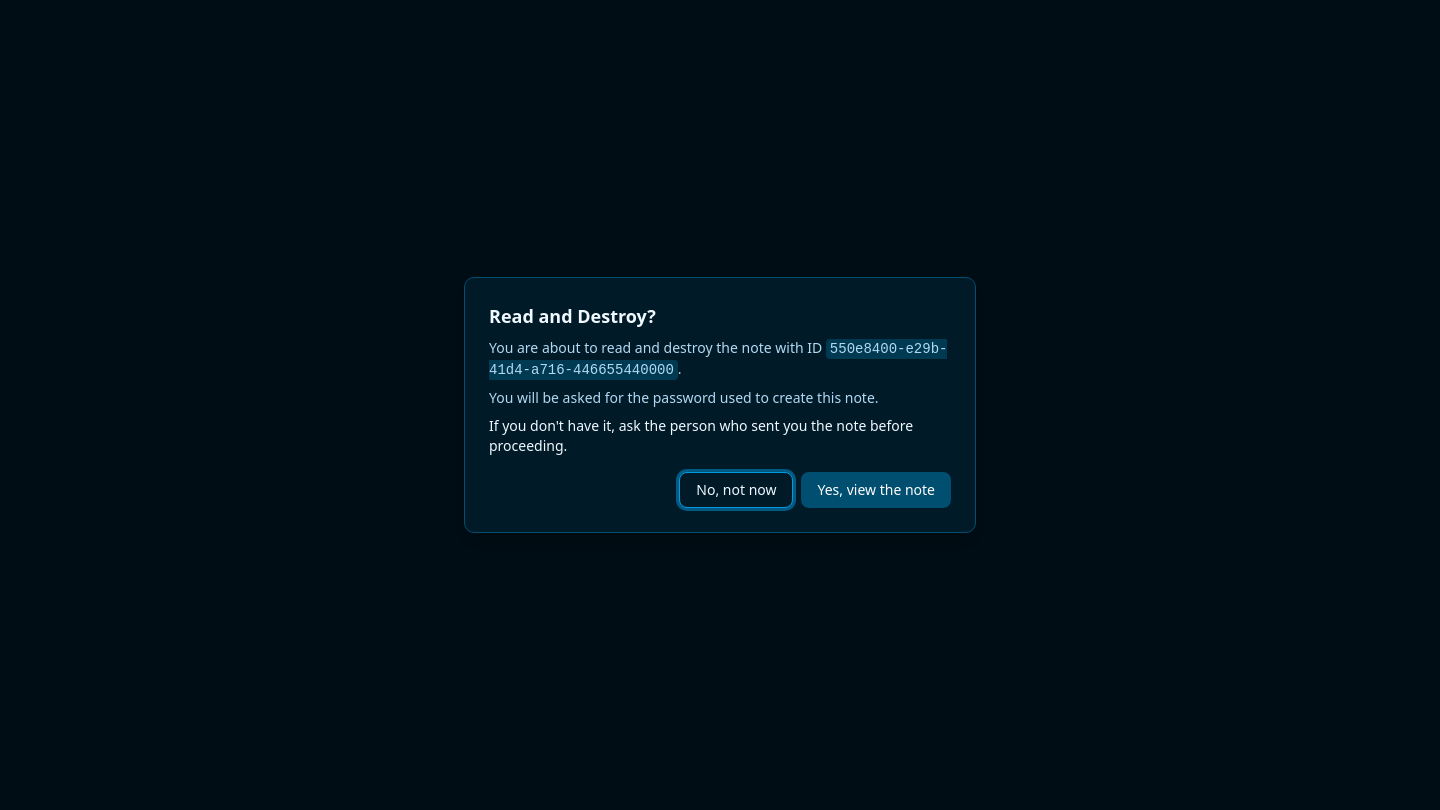
Test: NotePage › falls back to two remaining attempts when the API omits that field
Expected: the dialog is shown, [464,277,976,533]
Click the button "Yes, view the note" at [876, 490], box [802,472,951,508]
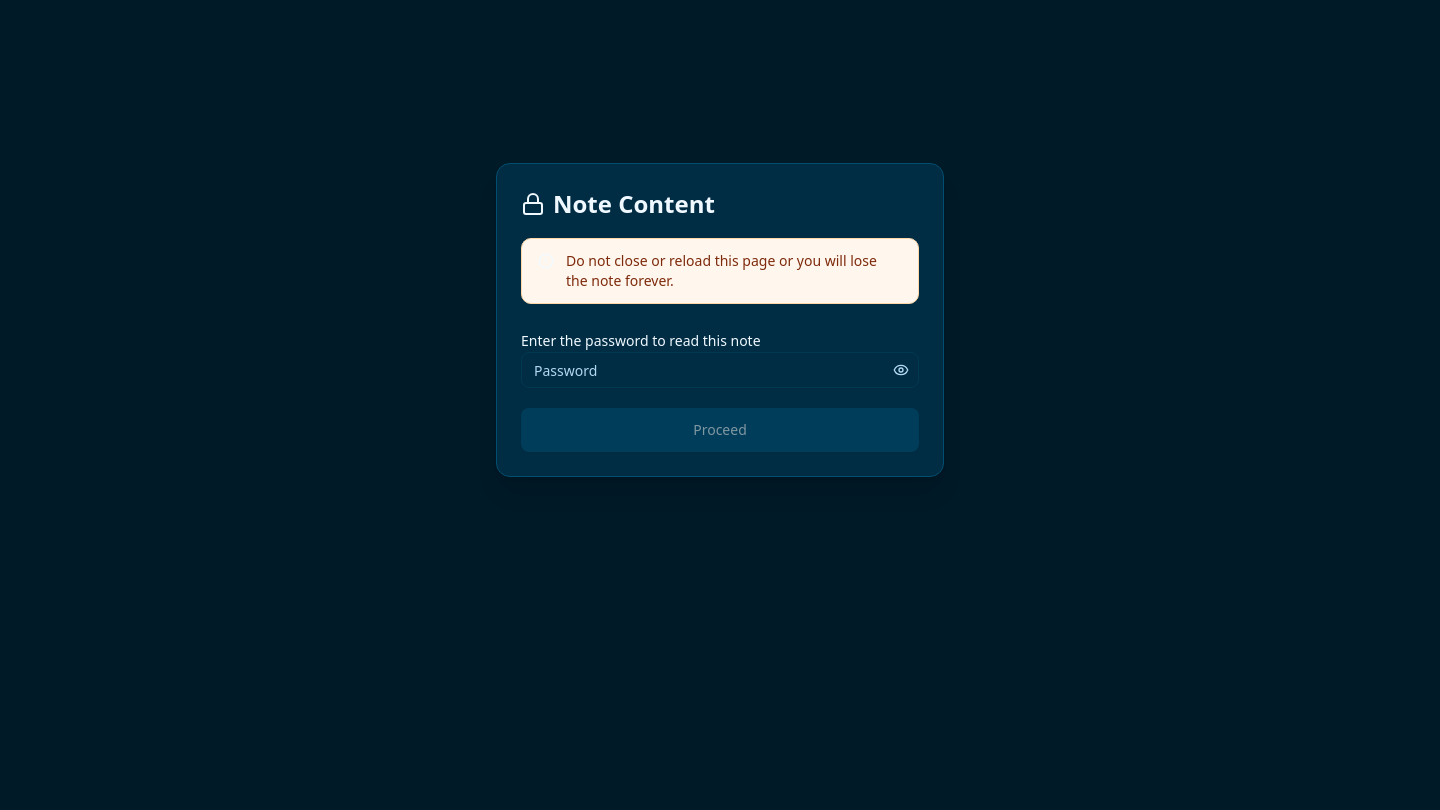
Expected: the password field labelled "Enter the password to read this note" is shown
Type "wrong" into the password field labelled "Enter the password to read this note" at [720, 370], box [521,352,919,388]
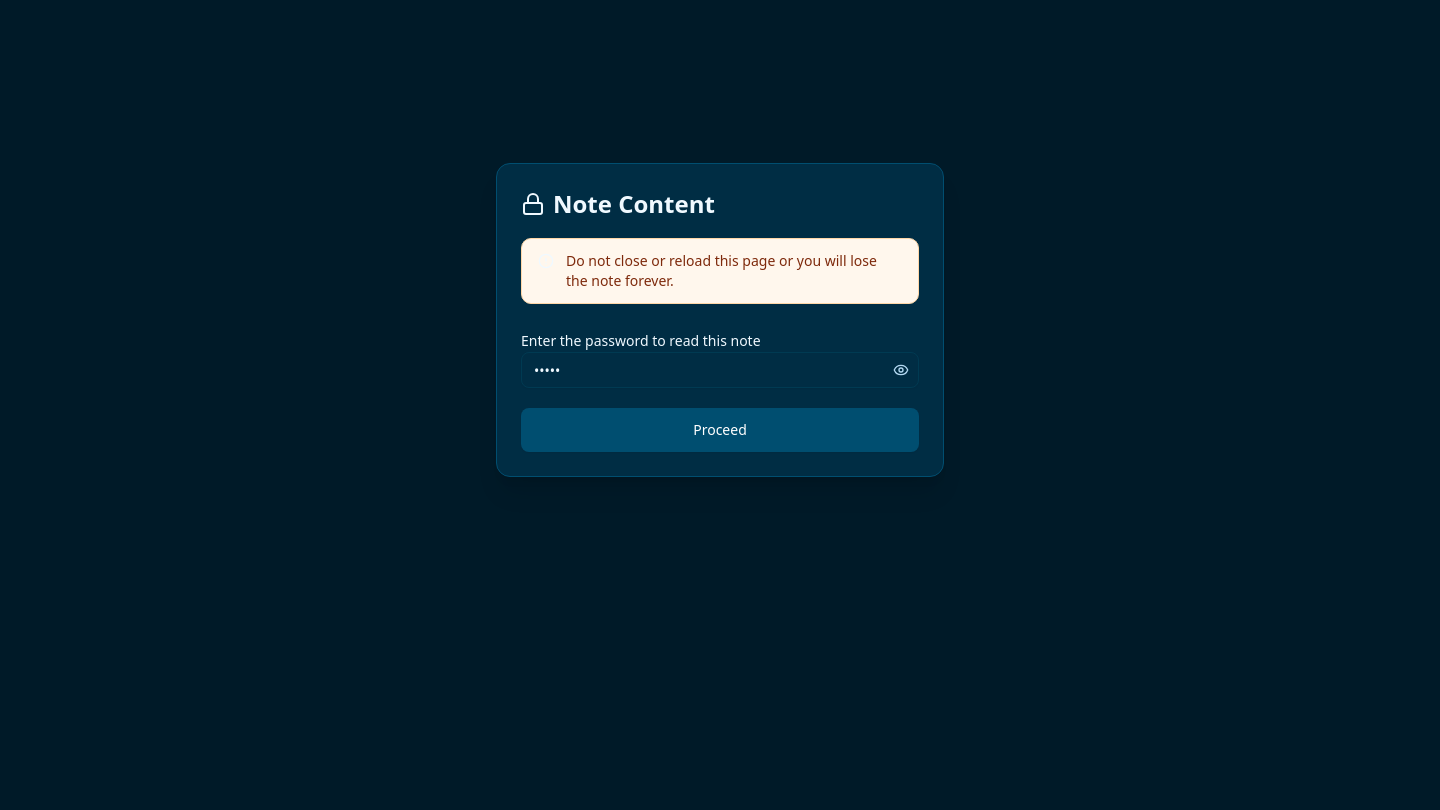
Submit the form "Enter the password to read this note Proceed", box [521,328,919,452]
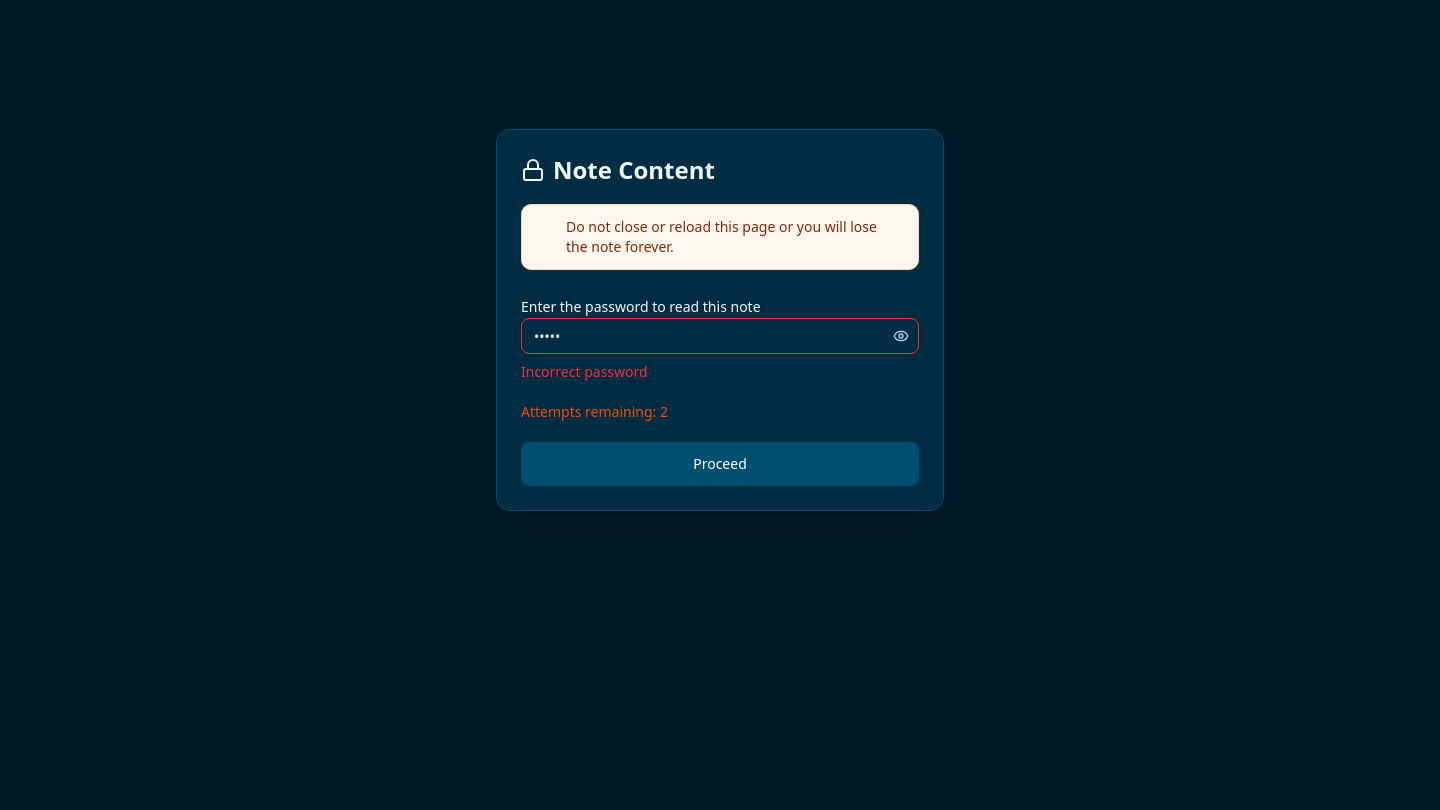
Expected: the text "Attempts remaining: 2" is shown, [521,402,668,421]
